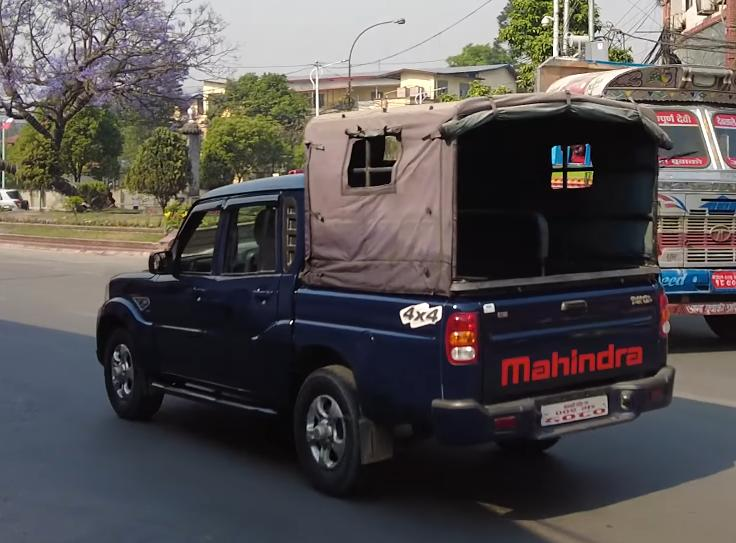police_vehicle: (88, 89, 689, 505)
